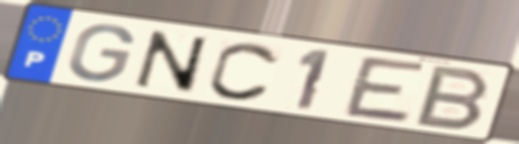1: (293, 47, 334, 113)
B: (410, 63, 494, 133)
C: (206, 39, 284, 103)
E: (340, 53, 431, 126)
G: (65, 22, 138, 84)
N: (132, 28, 210, 96)
